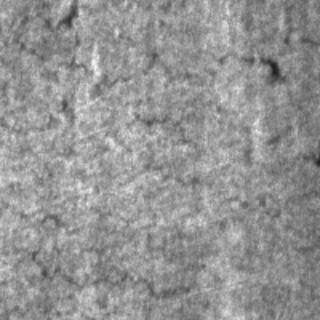crazing: (0, 32, 244, 120), (27, 207, 193, 296), (208, 26, 308, 168)
